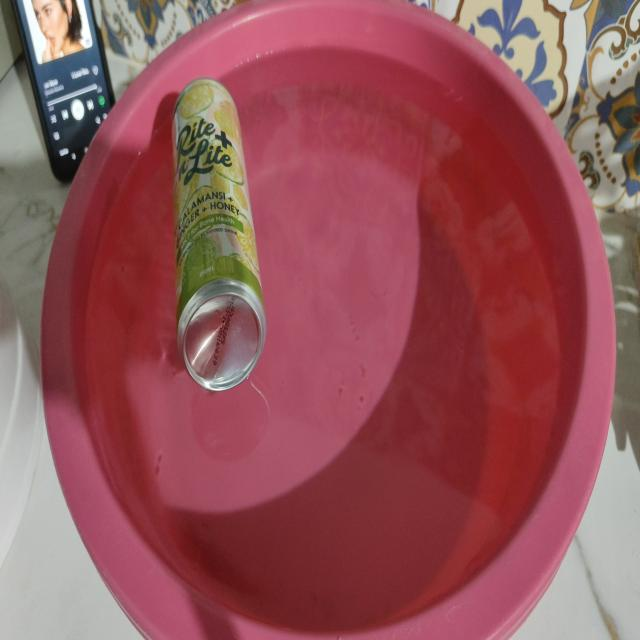Aluminum Can: (174, 78, 266, 391)
